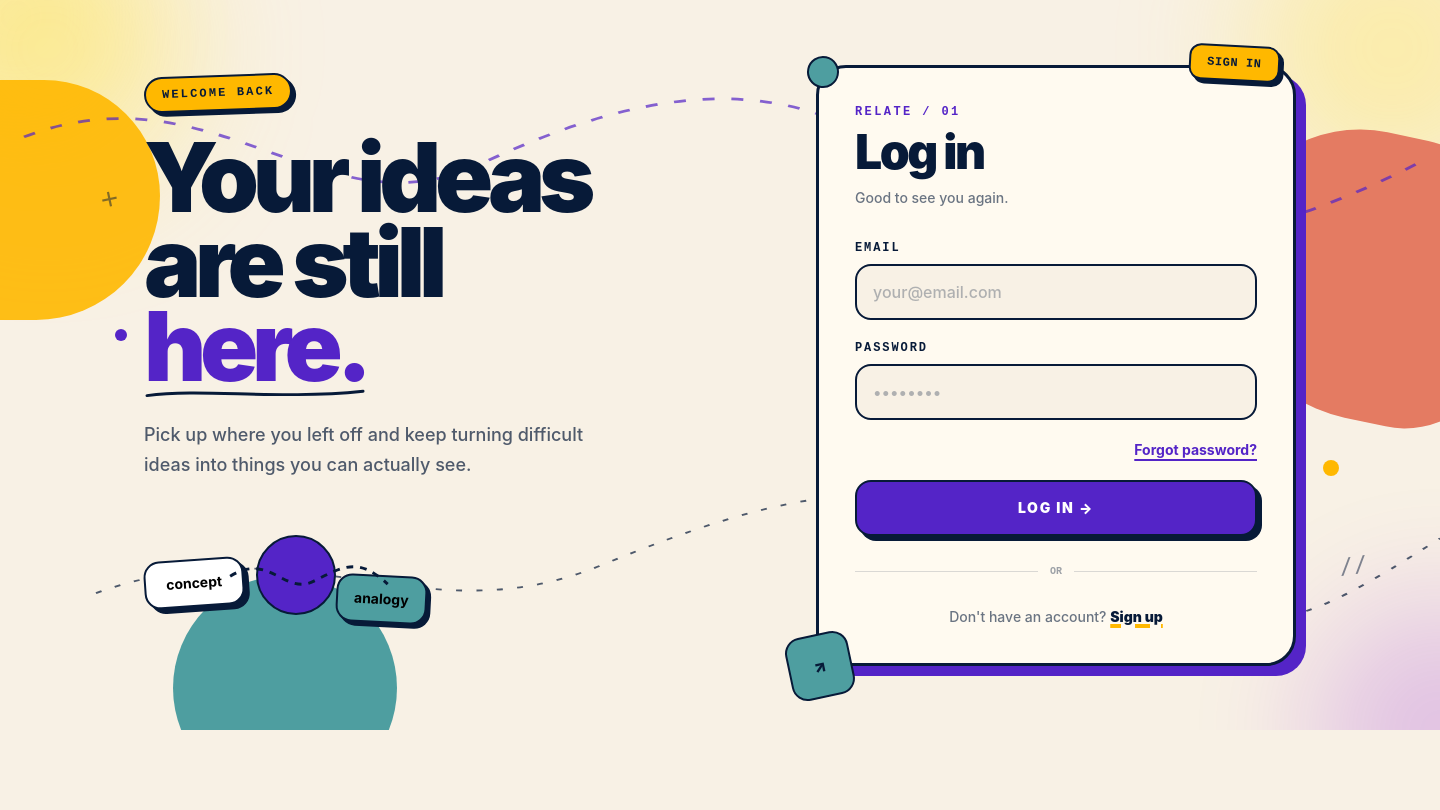
Test: LoginPage › inline validation - empty fields › should display errors on both fields when both are empty at submission
The width and height of the screenshot is (1440, 810).
Click the button "Log in →" at (1056, 508), box 855,480 -> 1257,536
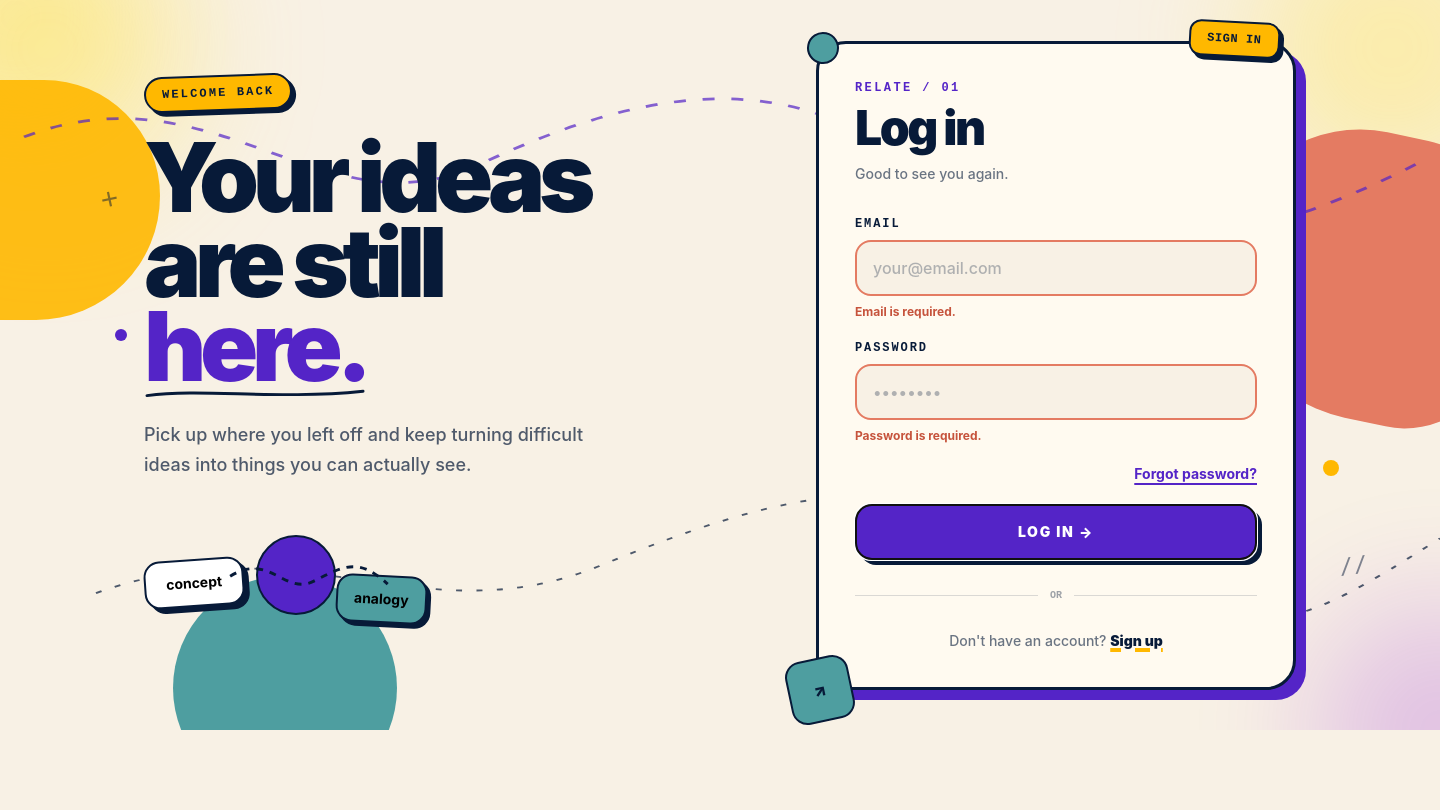
Check: the text "Email is required." is shown, box 855,304 -> 956,318
Check: the text "Password is required." is shown, box 855,428 -> 982,442
